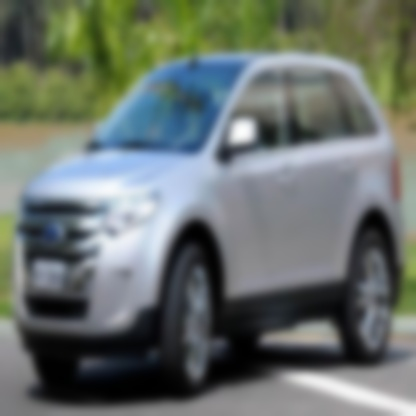Vehicle: (15, 53, 407, 398)
